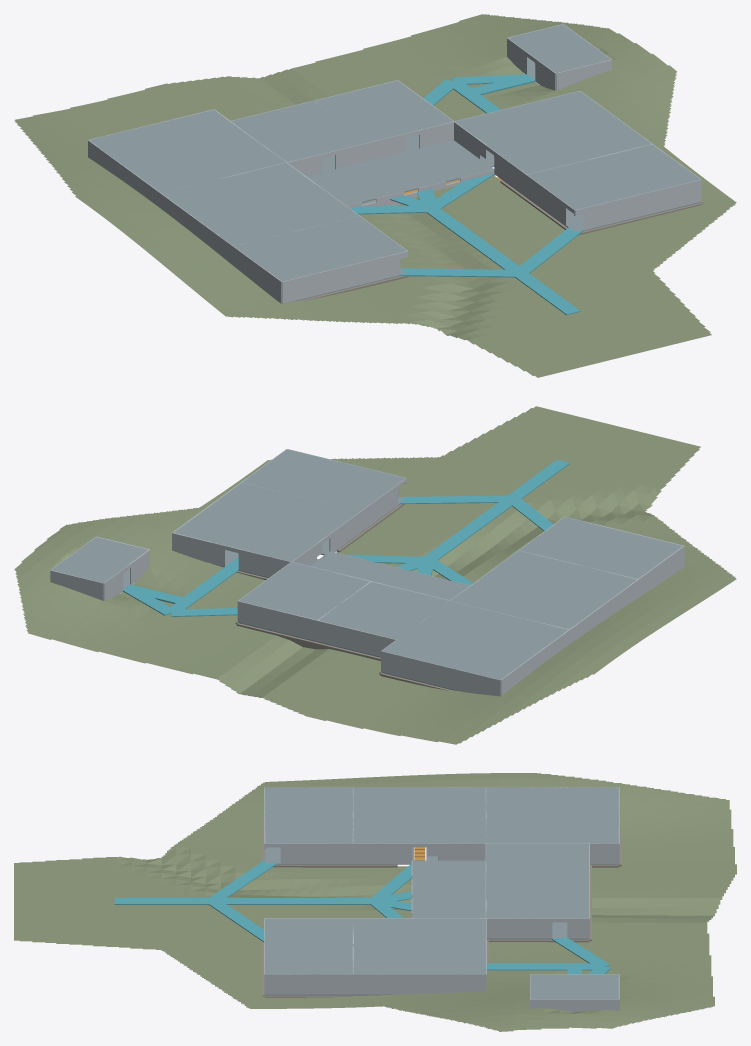
File: aligned-stairs.glb
The picture shows the model from 3 angles, top to bottom: view 1: azimuth 30°, elevation 25°; view 2: azimuth 150°, elevation 25°; view 3: azimuth 270°, elevation 25°; orthographic projection. The views are drawn at different scales.
Parts seen in each view (by area): view 1: Saved editor circulation terrain WLD-08, Ceiling cap lab, Ceiling cap dorm, Ceiling cap generator, Ceiling cap store, Ceiling cap mess, Ceiling cap radio, Ceiling cap records, Flat route shell Wall store S, Flat route shell Wall mess S, Ceiling cap shelter, Restored ceiling-cap tunnel 6 region1 (+19 smaller); view 2: Saved editor circulation terrain WLD-08, Ceiling cap generator, Ceiling cap dorm, Ceiling cap lab, Ceiling cap mess, Ceiling cap store, Ceiling cap records, Ceiling cap radio, Wall generator N, Ceiling cap shelter, Wall records N, Restored ceiling-cap tunnel 6 region1 (+13 smaller); view 3: Saved editor circulation terrain WLD-08, Ceiling cap lab, Ceiling cap generator, Ceiling cap dorm, Ceiling cap store, Ceiling cap mess, Ceiling cap radio, Ceiling cap records, Wall dorm E, Ceiling cap shelter, Wall mess E, Wall store E (+17 smaller).
Boxes of the visible parts, box(x1,y1,x2,y2) form: Saved editor circulation terrain WLD-08: box(14, 14, 736, 377); Ceiling cap lab: box(161, 162, 358, 246); Ceiling cap dorm: box(454, 91, 651, 174); Ceiling cap generator: box(89, 109, 285, 192); Ceiling cap store: box(234, 216, 407, 281); Ceiling cap mess: box(527, 144, 700, 210); Ceiling cap radio: box(231, 101, 370, 162); Ceiling cap records: box(315, 80, 453, 141); Flat route shell Wall store S: box(282, 251, 407, 303); Flat route shell Wall mess S: box(575, 179, 701, 230); Ceiling cap shelter: box(508, 24, 610, 73); Restored ceiling-cap tunnel 6 region1: box(337, 164, 493, 205); Saved editor circulation terrain WLD-08: box(14, 406, 736, 744); Ceiling cap generator: box(382, 601, 568, 679); Ceiling cap dorm: box(173, 483, 359, 561); Ceiling cap lab: box(450, 550, 636, 629); Ceiling cap mess: box(242, 449, 405, 511); Ceiling cap store: box(519, 517, 682, 578); Ceiling cap records: box(238, 562, 369, 619); Ceiling cap radio: box(318, 581, 449, 639); Wall generator N: box(381, 651, 500, 696); Ceiling cap shelter: box(51, 537, 148, 583); Wall records N: box(237, 601, 317, 641); Restored ceiling-cap tunnel 6 region1: box(323, 551, 469, 591); Saved editor circulation terrain WLD-08: box(14, 773, 736, 1031); Ceiling cap lab: box(353, 787, 485, 843); Ceiling cap generator: box(486, 787, 618, 843); Ceiling cap dorm: box(353, 918, 485, 974); Ceiling cap store: box(265, 787, 353, 843); Ceiling cap mess: box(265, 918, 353, 974); Ceiling cap radio: box(486, 843, 589, 880); Ceiling cap records: box(486, 881, 589, 918); Wall dorm E: box(353, 974, 485, 994); Ceiling cap shelter: box(530, 974, 618, 999); Wall mess E: box(265, 974, 353, 994); Wall store E: box(280, 843, 353, 863).
Bounding box in the file's own units: 83 × 5.66 × 98.
